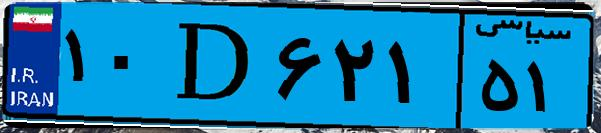0: (110, 28, 158, 98)
1: (385, 28, 445, 110), (57, 26, 110, 100), (525, 38, 570, 115)
2: (330, 28, 385, 110)
5: (475, 38, 525, 113)
6: (270, 28, 330, 110)
D: (158, 12, 270, 120)
